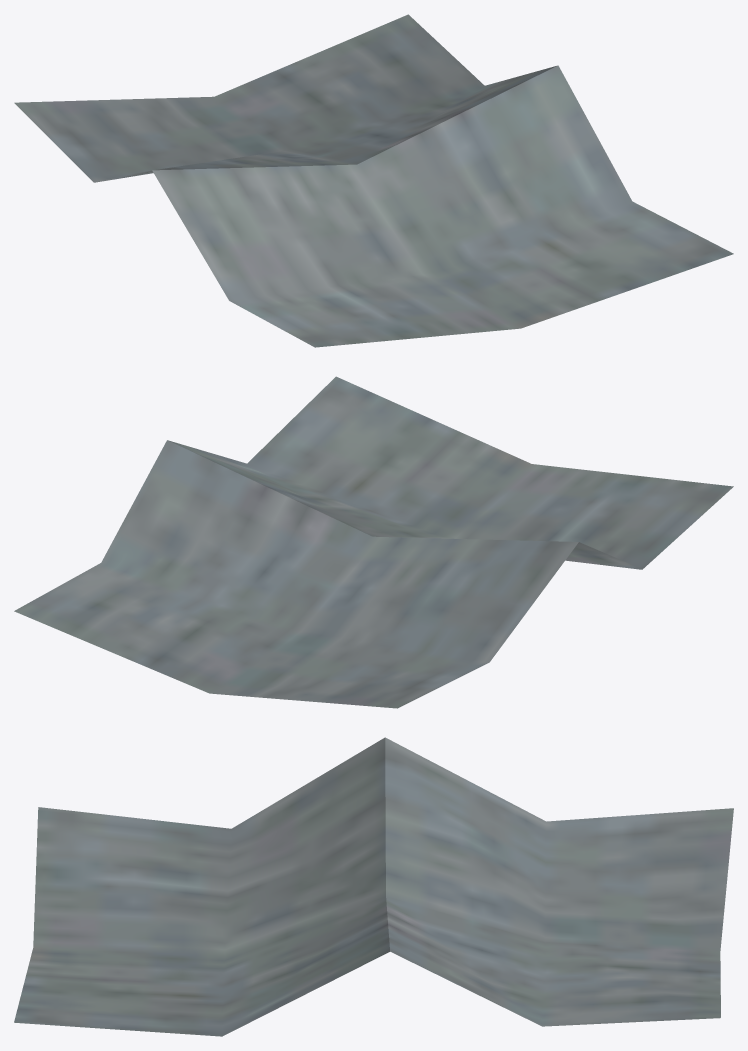
File: poi_all_tent_med_l3.fbx
3 views of the same model, one above another, from view 1: azimuth 30°, elevation 25°; view 2: azimuth 150°, elevation 25°; view 3: azimuth 270°, elevation 25° (orthographic). The views are drawn at different scales.
Visible parts, largest first — view 1: mesh_node; view 2: mesh_node; view 3: mesh_node.
Part boxes in pixels (x1,y1,x2,y2): mesh_node: (14,14,733,347); mesh_node: (14,376,733,708); mesh_node: (14,737,733,1036).
Bounding box in the file's own units: 6.49 × 1.56 × 8.98.
